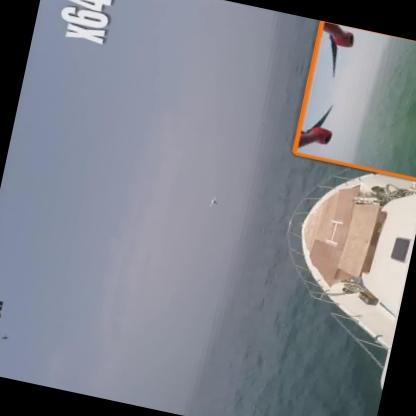drone: (204, 191, 222, 211)
